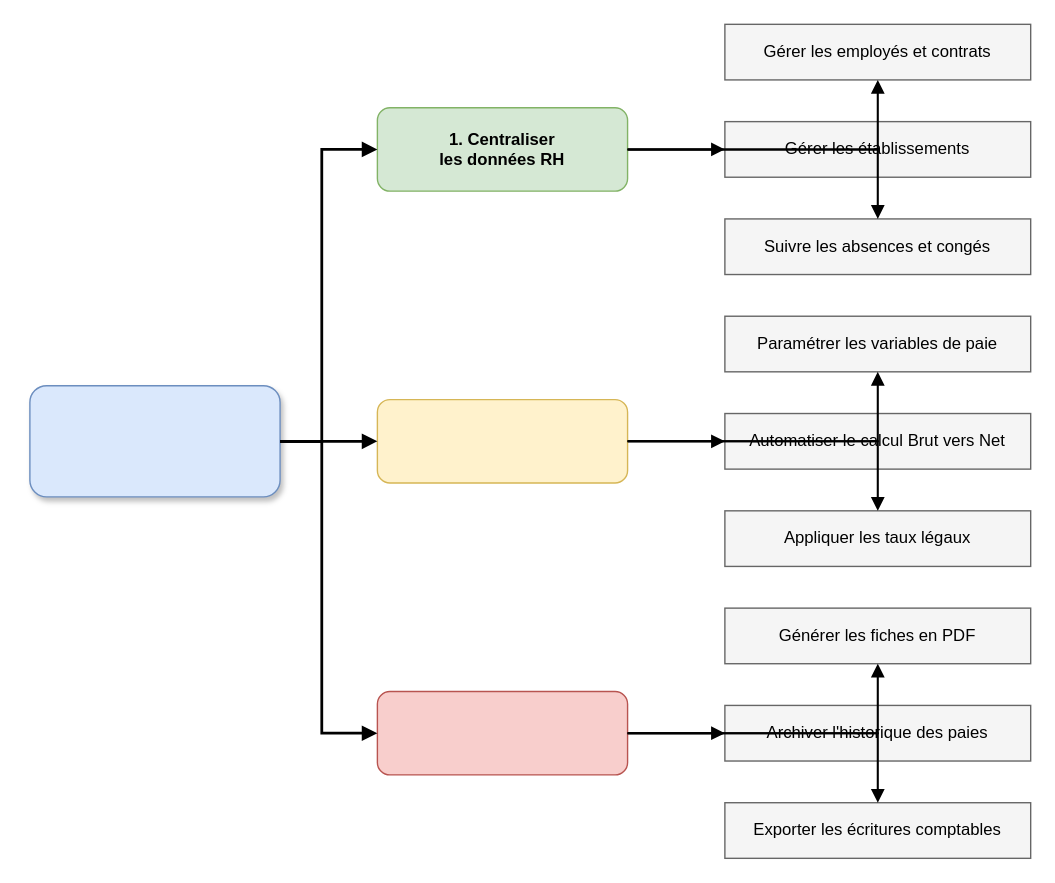
Some shapes in this 1055 by 883 pixel diagram are drawn without their labels. The centre of each missing label's shape, as x and y in pixels:
2. Garantir l'exactitude des calculs: the point at 502,440
3. Simplifier l'édition et l'export: the point at 502,732
Automatiser et fiabiliser la paie: the point at 155,443
